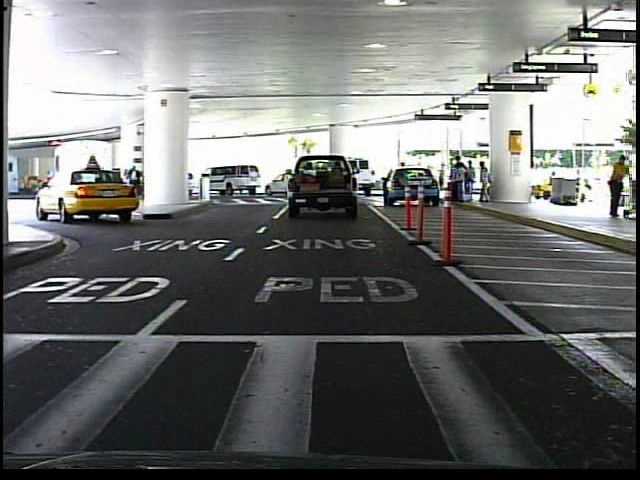person: (604, 149, 633, 222), (396, 158, 412, 198)
